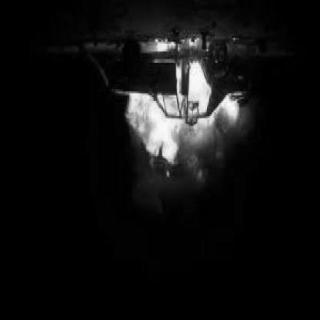Fire: (120, 66, 242, 184), (153, 36, 199, 58)
